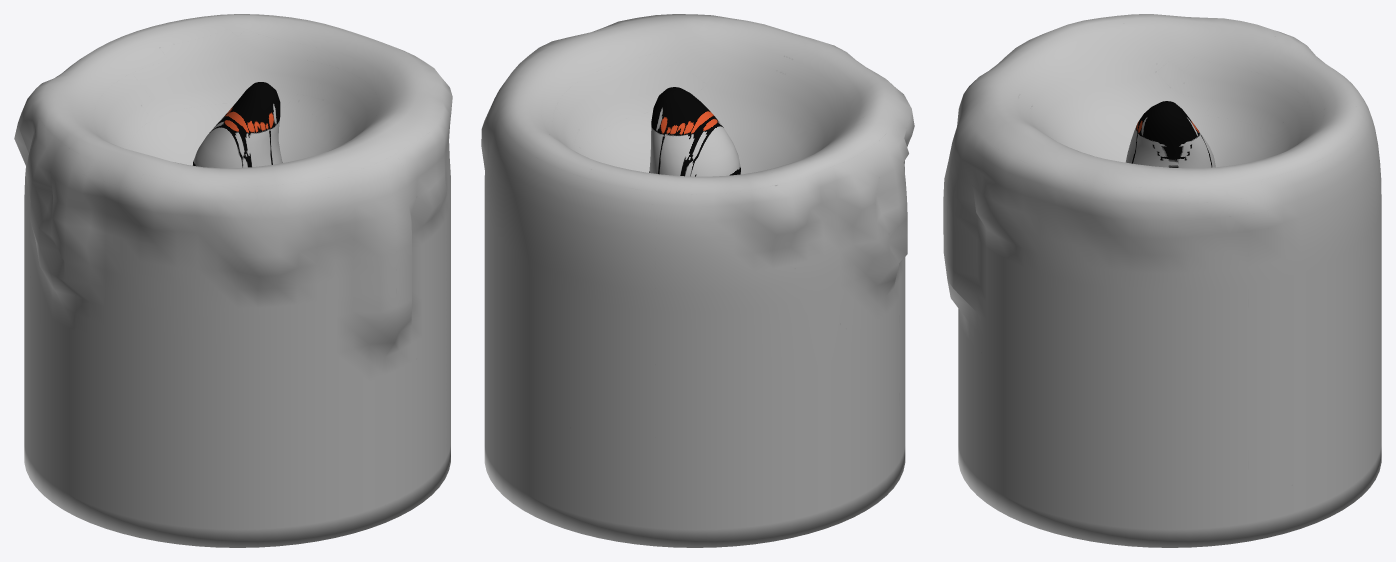
File: unwrapped_candle.fbx
The picture shows the model from 3 angles, left to right: view 1: azimuth 30°, elevation 25°; view 2: azimuth 150°, elevation 25°; view 3: azimuth 270°, elevation 25°; orthographic projection.
Visible parts, largest first — view 1: Candle, Candle.001; view 2: Candle, Candle.001; view 3: Candle, Candle.001.
Boxes of the visible parts, bbox=[...] form: Candle: bbox=[14, 14, 452, 547]; Candle.001: bbox=[192, 82, 282, 168]; Candle: bbox=[481, 14, 914, 547]; Candle.001: bbox=[649, 87, 740, 176]; Candle: bbox=[943, 14, 1381, 547]; Candle.001: bbox=[1125, 101, 1215, 168].
Bounding box in the file's own units: 1019 × 939 × 1010.
